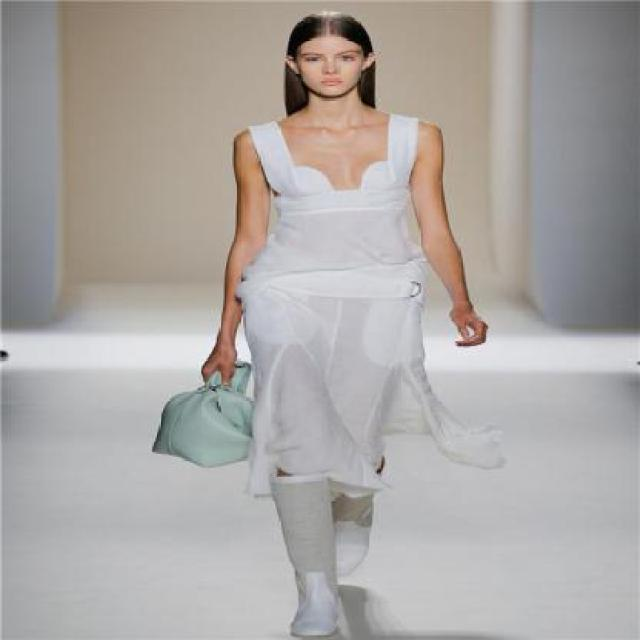Person: (203, 10, 488, 604)
